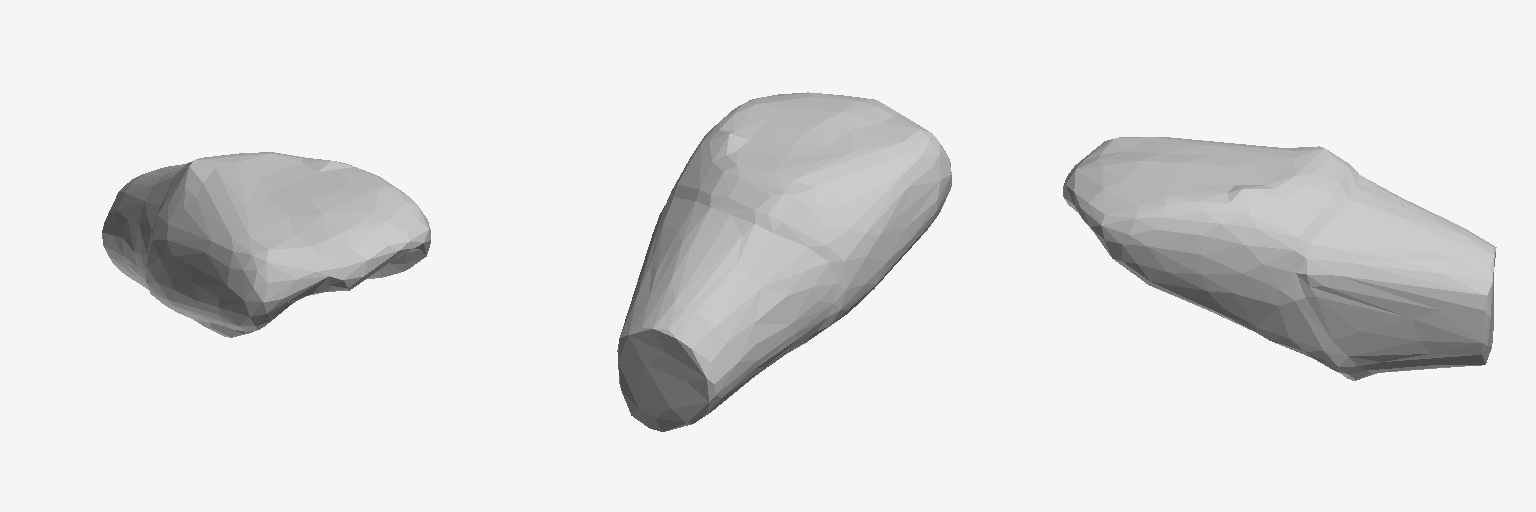
The model's file is local_t42_7780_si.OBJ.
3 views of the same model, side by side, from view 1: azimuth 30°, elevation 25°; view 2: azimuth 150°, elevation 25°; view 3: azimuth 270°, elevation 25° (orthographic).
Visible parts, largest first — view 1: Group36250; view 2: Group36250; view 3: Group36250.
Part boxes in pixels (x1,y1,x2,y2): Group36250: (102,152,430,337); Group36250: (617,92,951,431); Group36250: (1063,137,1496,380).
Size of the model in its own units: 6.39 by 6.29 by 11.62.